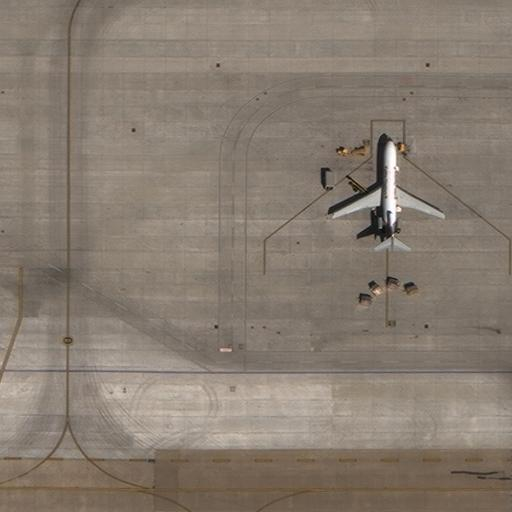Medium Civil Transport: (332, 137, 444, 253)
